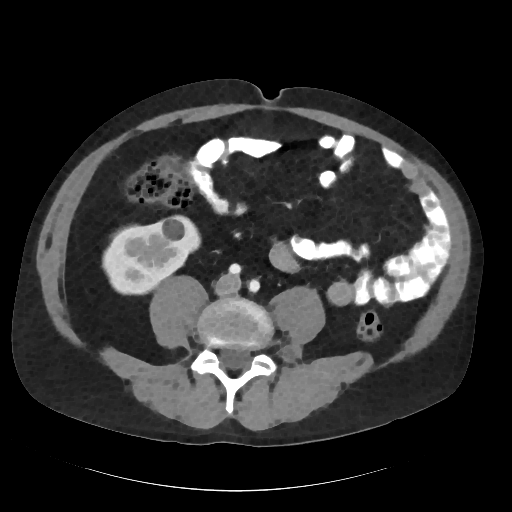Lesion: (159, 215, 191, 244)
